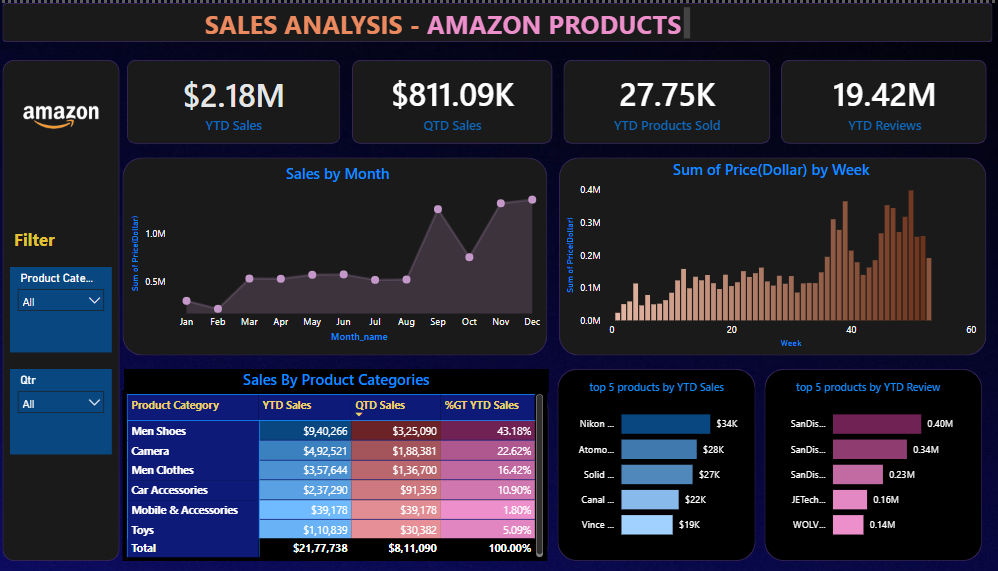

This screenshot's page, from the dashboard's own definition file:
{"tool":"powerbi","page":{"name":"Page 1","canvas":[1280,720],"ordinal":0},"visuals":[{"type":"shape","box":[178.2,72,269.6,105.8],"z":0,"group":"g1"},{"type":"shape","box":[20.8,0,1250.9,49.3],"z":0},{"type":"card","fields":{"Values":["Amazon_Data.YTD Sales"]},"box":[179.4,78.3,265,96.1],"z":1000,"group":"g1"},{"type":"shape","box":[20.8,72,147.8,633.1],"z":1000},{"type":"textbox","box":[271,0,623.6,51.2],"z":2000},{"type":"shape","box":[462.1,72,253.1,105.8],"z":2000,"group":"g1"},{"type":"shape","box":[729.5,72,261.3,105.8],"z":3000,"group":"g1"},{"type":"group","id":"g1","title":"Group 1","box":[178.2,72,1087.9,104.2],"z":3000},{"type":"shape","box":[1005.2,72,259.7,105.8],"z":4000,"group":"g1"},{"type":"shape","box":[172.3,195.5,536.7,250.1],"z":4000},{"type":"card","fields":{"Values":["Amazon_Data.QTD Sales"]},"box":[462.7,72,253.1,105.8],"z":5000,"group":"g1"},{"type":"stackedAreaChart","title":"Sales by Month","fields":{"Category":["Date_Table.Month_name"],"Y":["Amazon_Data.Price(Dollar)"]},"box":[178.2,202.8,532.6,231.2],"z":5000},{"type":"card","fields":{"Values":["Amazon_Data.YTD Products Sold"]},"box":[729,72,261.3,105.8],"z":6000,"group":"g1"},{"type":"shape","box":[723.9,195.5,540,250.1],"z":6000},{"type":"card","fields":{"Values":["Amazon_Data.YTD Reviews"]},"box":[1005.2,72,261.3,105.8],"z":7000,"group":"g1"},{"type":"clusteredColumnChart","fields":{"Category":["Date_Table.Week"],"Y":["Amazon_Data.Price(Dollar)"]},"box":[727.8,197.1,528.8,242.6],"z":7000},{"type":"shape","title":"Sales By Product Categories","box":[174.4,462.5,536.4,242.6],"z":8000},{"type":"pivotTable","fields":{"Rows":["Amazon_Data.Product Category"],"Values":["Amazon_Data.YTD Sales1","Amazon_Data.QTD Sales","Amazon_Data.YTD Sales"]},"box":[172.5,489,536.4,216.1],"z":9000},{"type":"shape","box":[722.1,462.5,250.2,242.6],"z":10000},{"type":"clusteredBarChart","title":"top 5 products by YTD Sales","fields":{"Y":["Amazon_Data.YTD Sales"],"Category":["Amazon_Data.Product Description"]},"box":[731.6,475.7,231.2,214.2],"z":11000},{"type":"shape","box":[983.7,462.5,274.8,242.6],"z":12000},{"type":"clusteredBarChart","title":"top 5 products by YTD Review","fields":{"Y":["Amazon_Data.YTD Reviews"],"Category":["Amazon_Data.Product Description"]},"box":[998.9,475.7,231.2,214.2],"z":13000},{"type":"slicer","fields":{"Values":["Amazon_Data.Product Category"]},"box":[30.3,333.6,128.9,108],"z":14000},{"type":"slicer","fields":{"Values":["Date_Table.Qtr"]},"box":[30.3,462.5,128.9,108],"z":15000},{"type":"image","box":[30.3,83.4,128.9,113.7],"z":16000},{"type":"textbox","box":[30.3,278.6,128.9,41.7],"z":17000}]}

Visuals, with their boxes in screenshot pixels (x1, y1, x2, y2), scaled from the page's 1280x720 canvas onto the 998x571 screenshot:
shape: {"x1": 139, "y1": 57, "x2": 349, "y2": 141}
shape: {"x1": 16, "y1": 0, "x2": 992, "y2": 39}
card - Amazon_Data.YTD Sales: {"x1": 140, "y1": 62, "x2": 346, "y2": 138}
shape: {"x1": 16, "y1": 57, "x2": 131, "y2": 559}
textbox: {"x1": 211, "y1": 0, "x2": 698, "y2": 41}
shape: {"x1": 360, "y1": 57, "x2": 558, "y2": 141}
shape: {"x1": 569, "y1": 57, "x2": 773, "y2": 141}
"Group 1" group: {"x1": 139, "y1": 57, "x2": 987, "y2": 140}
shape: {"x1": 784, "y1": 57, "x2": 986, "y2": 141}
shape: {"x1": 134, "y1": 155, "x2": 553, "y2": 353}
card - Amazon_Data.QTD Sales: {"x1": 361, "y1": 57, "x2": 558, "y2": 141}
"Sales by Month" stackedAreaChart: {"x1": 139, "y1": 161, "x2": 554, "y2": 344}
card - Amazon_Data.YTD Products Sold: {"x1": 568, "y1": 57, "x2": 772, "y2": 141}
shape: {"x1": 564, "y1": 155, "x2": 985, "y2": 353}
card - Amazon_Data.YTD Reviews: {"x1": 784, "y1": 57, "x2": 987, "y2": 141}
clusteredColumnChart - Date_Table.Week x Amazon_Data.Price(Dollar): {"x1": 567, "y1": 156, "x2": 980, "y2": 349}
"Sales By Product Categories" shape: {"x1": 136, "y1": 367, "x2": 554, "y2": 559}
pivotTable - Amazon_Data.Product Category x Amazon_Data.YTD Sales1: {"x1": 134, "y1": 388, "x2": 553, "y2": 559}
shape: {"x1": 563, "y1": 367, "x2": 758, "y2": 559}
"top 5 products by YTD Sales" clusteredBarChart: {"x1": 570, "y1": 377, "x2": 751, "y2": 547}
shape: {"x1": 767, "y1": 367, "x2": 981, "y2": 559}
"top 5 products by YTD Review" clusteredBarChart: {"x1": 779, "y1": 377, "x2": 959, "y2": 547}
slicer - Amazon_Data.Product Category: {"x1": 24, "y1": 265, "x2": 124, "y2": 350}
slicer - Date_Table.Qtr: {"x1": 24, "y1": 367, "x2": 124, "y2": 452}
image: {"x1": 24, "y1": 66, "x2": 124, "y2": 156}
textbox: {"x1": 24, "y1": 221, "x2": 124, "y2": 254}
